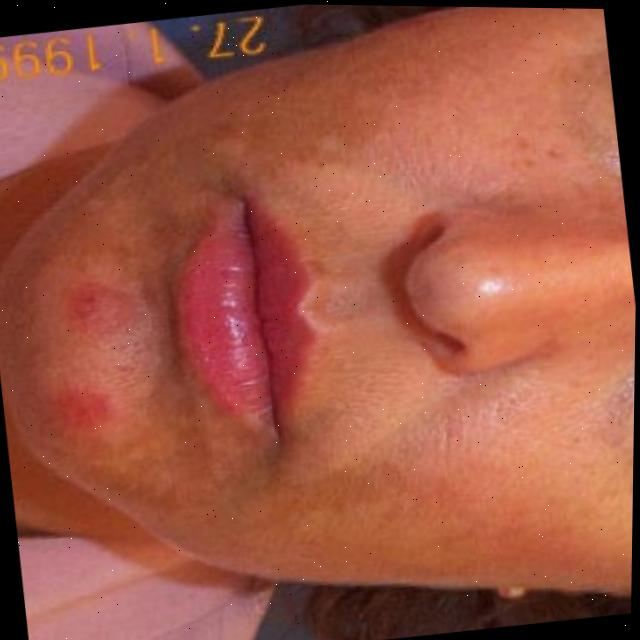Melasma: (0, 55, 413, 570)
